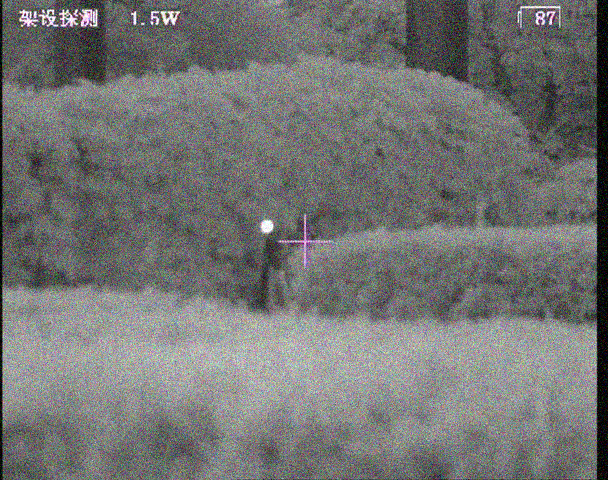my: (260, 218, 274, 234)
